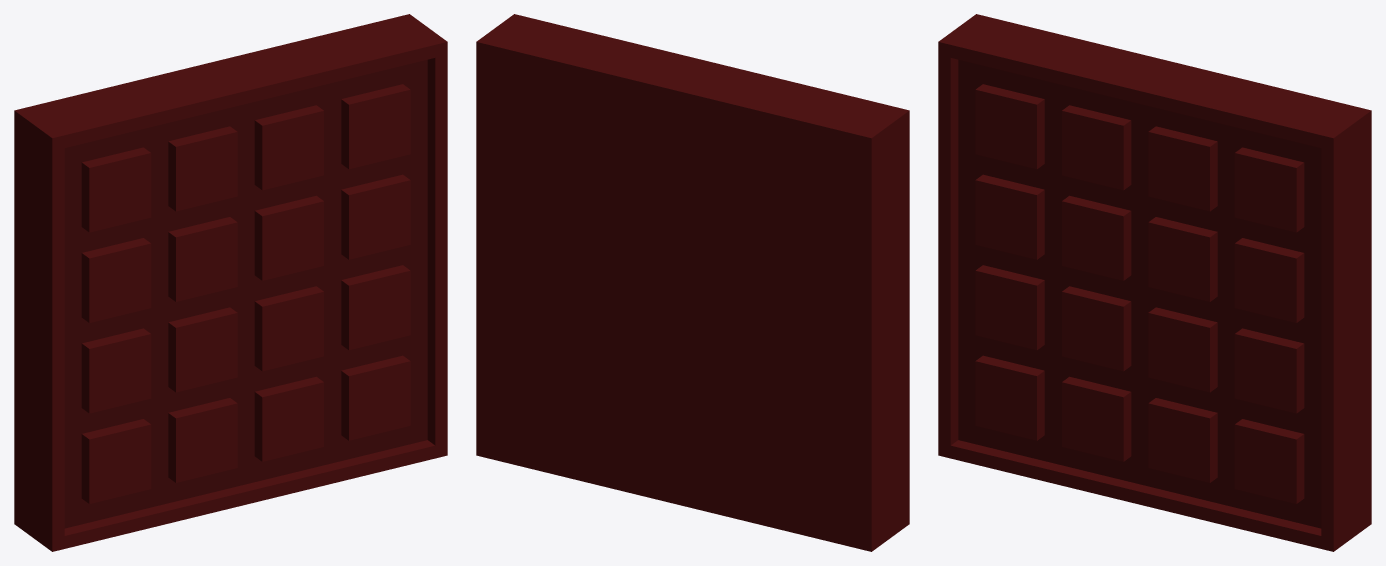
The model's file is board.gltf.
3 views of the same model, side by side, from view 1: azimuth 30°, elevation 25°; view 2: azimuth 150°, elevation 25°; view 3: azimuth 330°, elevation 25° (orthographic).
Visible parts, largest first — view 1: Cube; view 2: Cube; view 3: Cube.
Boxes of the visible parts, x1,y1,x2,y2 form: Cube: (14, 14, 447, 551); Cube: (476, 14, 909, 551); Cube: (938, 14, 1371, 551).
Size of the model in its own units: 6 by 6 by 1.
